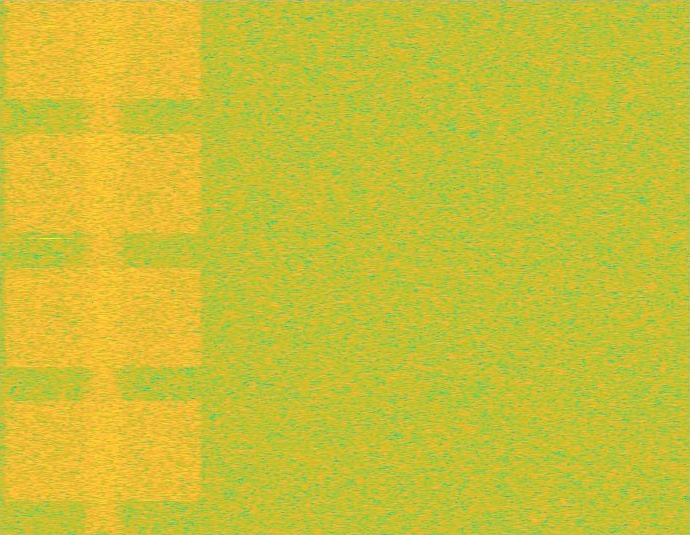5G: (0, 0, 207, 534)
DSSS: (80, 0, 127, 534)
Radar: (44, 0, 58, 534)
